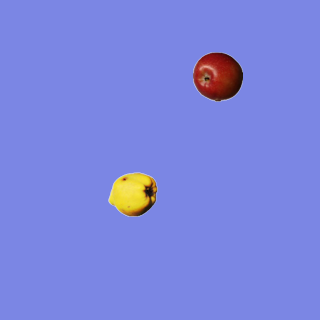Apple Braeburn: (192, 51, 242, 101)
Quince: (107, 169, 157, 219)
